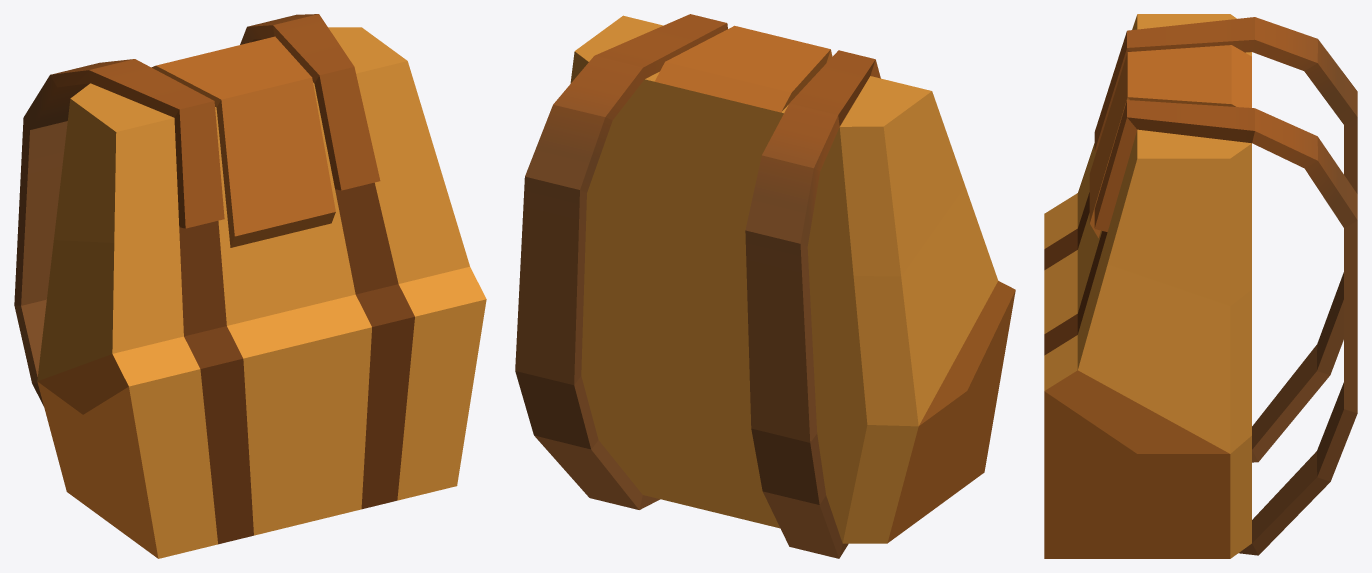
The model's file is Bag.fbx.
3 views of the same model, side by side, from view 1: azimuth 30°, elevation 25°; view 2: azimuth 150°, elevation 25°; view 3: azimuth 270°, elevation 25° (orthographic). The views are drawn at different scales.
Parts seen in each view (by area): view 1: Bag; view 2: Bag; view 3: Bag.
Part boxes in pixels (<box>): Bag: <box>14,14,486,558</box>; Bag: <box>515,14,1015,558</box>; Bag: <box>1044,14,1357,558</box>.
Size of the model in its own units: 82.26 by 91.55 by 61.43.
